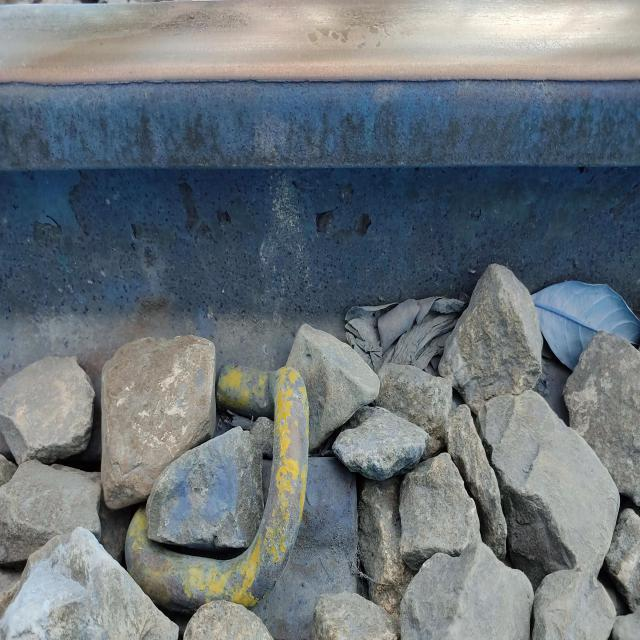Good Fasteners: (127, 354, 376, 638)
